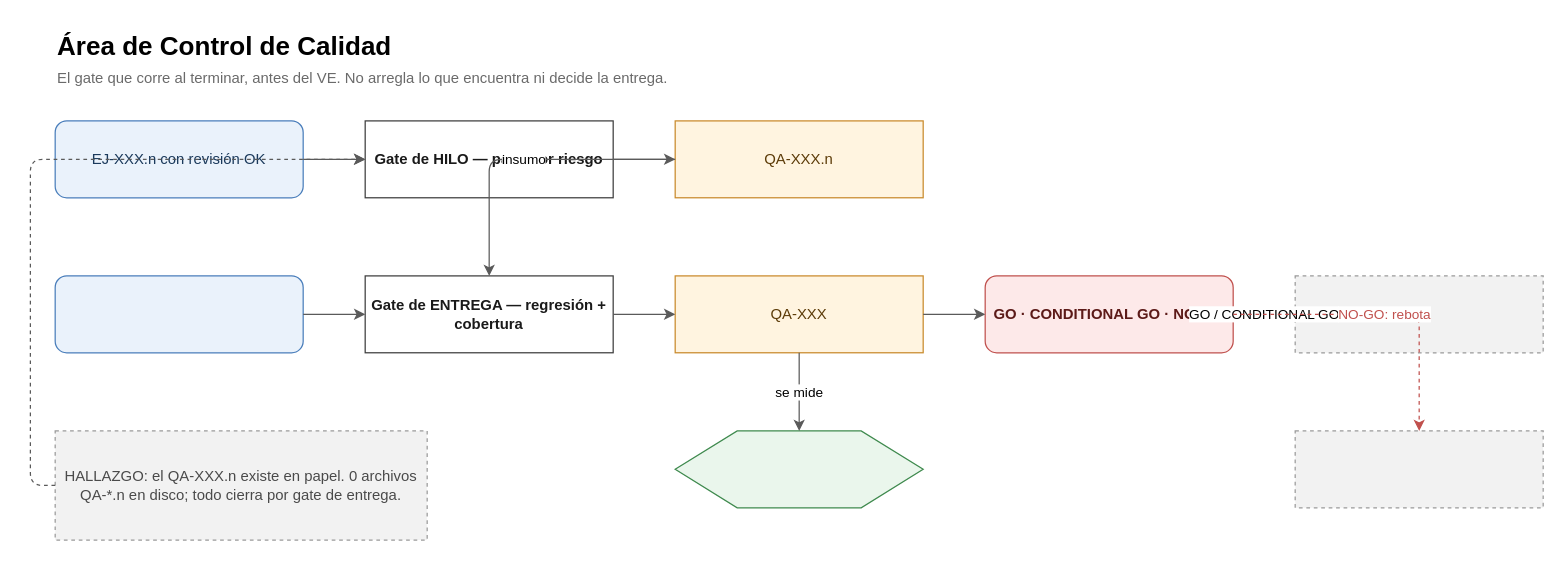
The diagram is 1565 pixels wide and 562 high, and some of its shapes have lost their labels. Each missing label, with the box of its shape:
calidad.py — las leyes del QA: (674, 430, 923, 508)
Producción → VE: (1294, 275, 1543, 353)
Programación: defecto reproducible: (1294, 430, 1543, 508)
TL con sus hilos cerrados: (54, 275, 303, 353)
